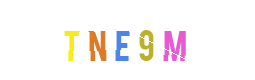9: (87, 0, 167, 80)
E: (81, 0, 161, 80)
M: (135, 0, 215, 80)
N: (78, 0, 158, 80)
T: (38, 0, 118, 80)
